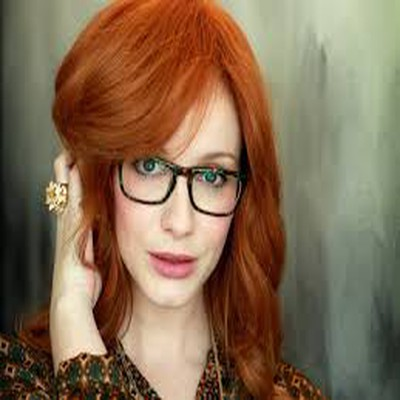eywear: (110, 123, 283, 217)
